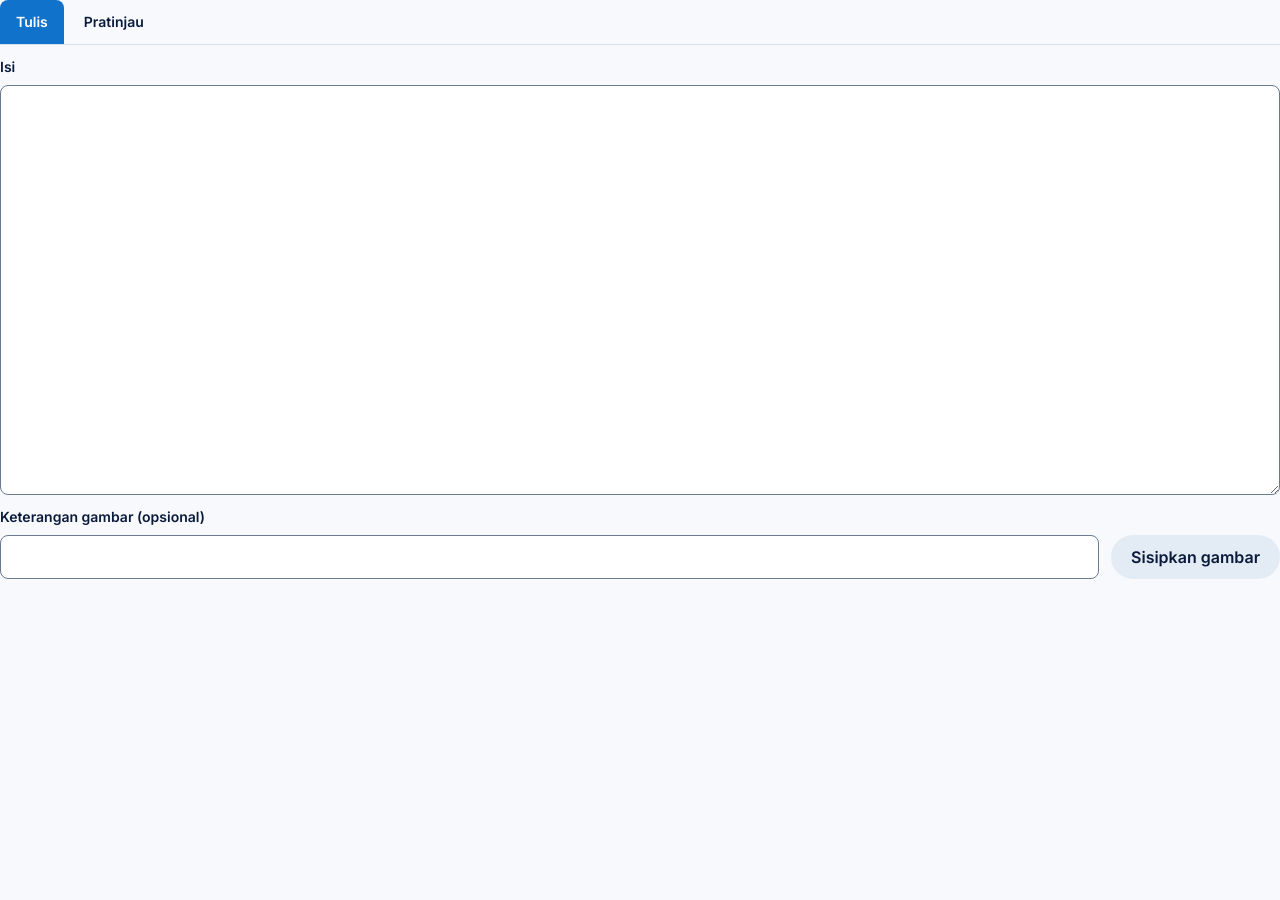
Test: MarkdownEditor › leaves out the title when no caption was typed
Click the button "Sisipkan gambar". click: (1196, 557)
box: [1111, 535, 1279, 579]
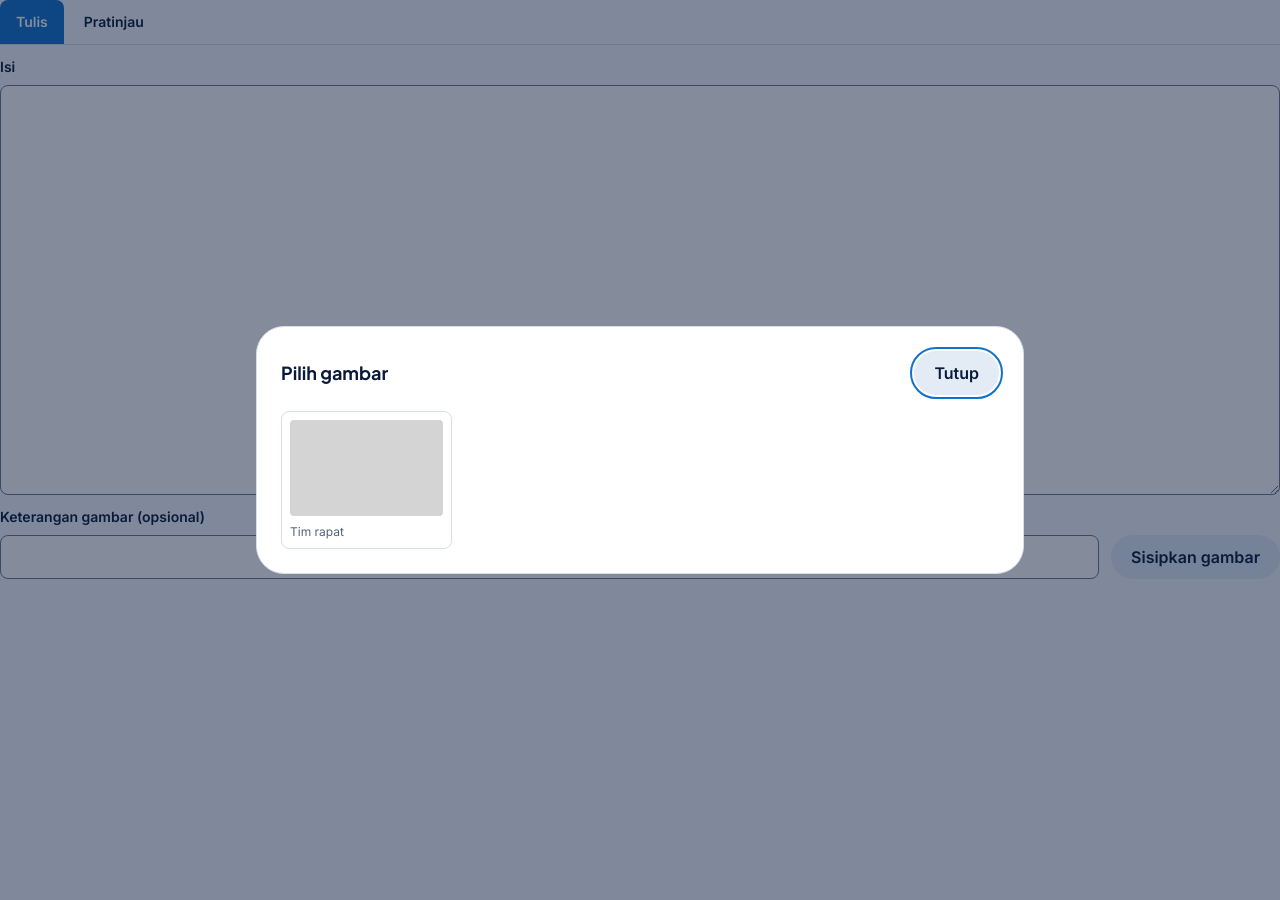
Click the button "Tim rapat". click: (366, 480)
box: [281, 411, 452, 549]
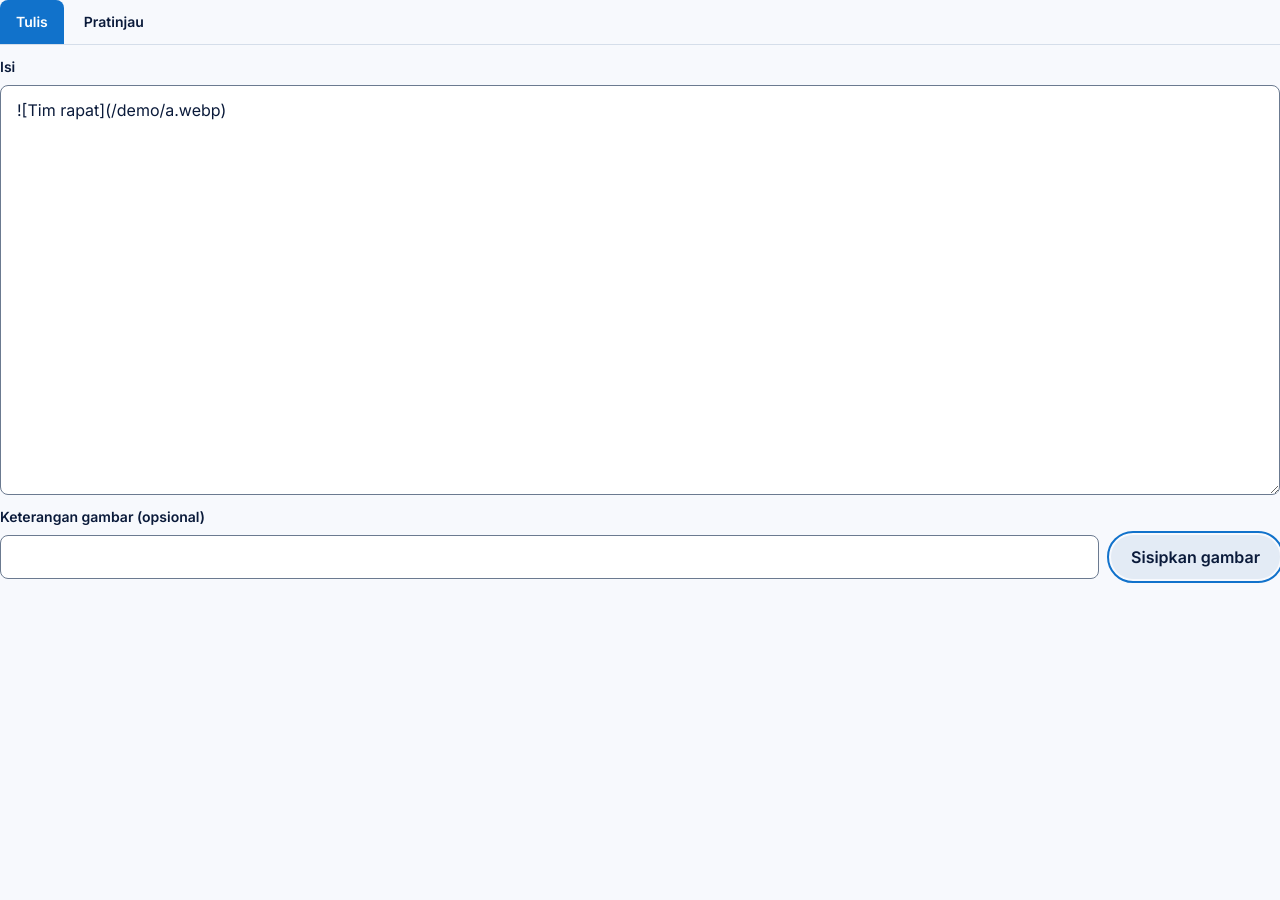
Expected: the text box labelled "Isi" holds "![Tim rapat](/demo/a.webp)", [0, 85, 1279, 495]
